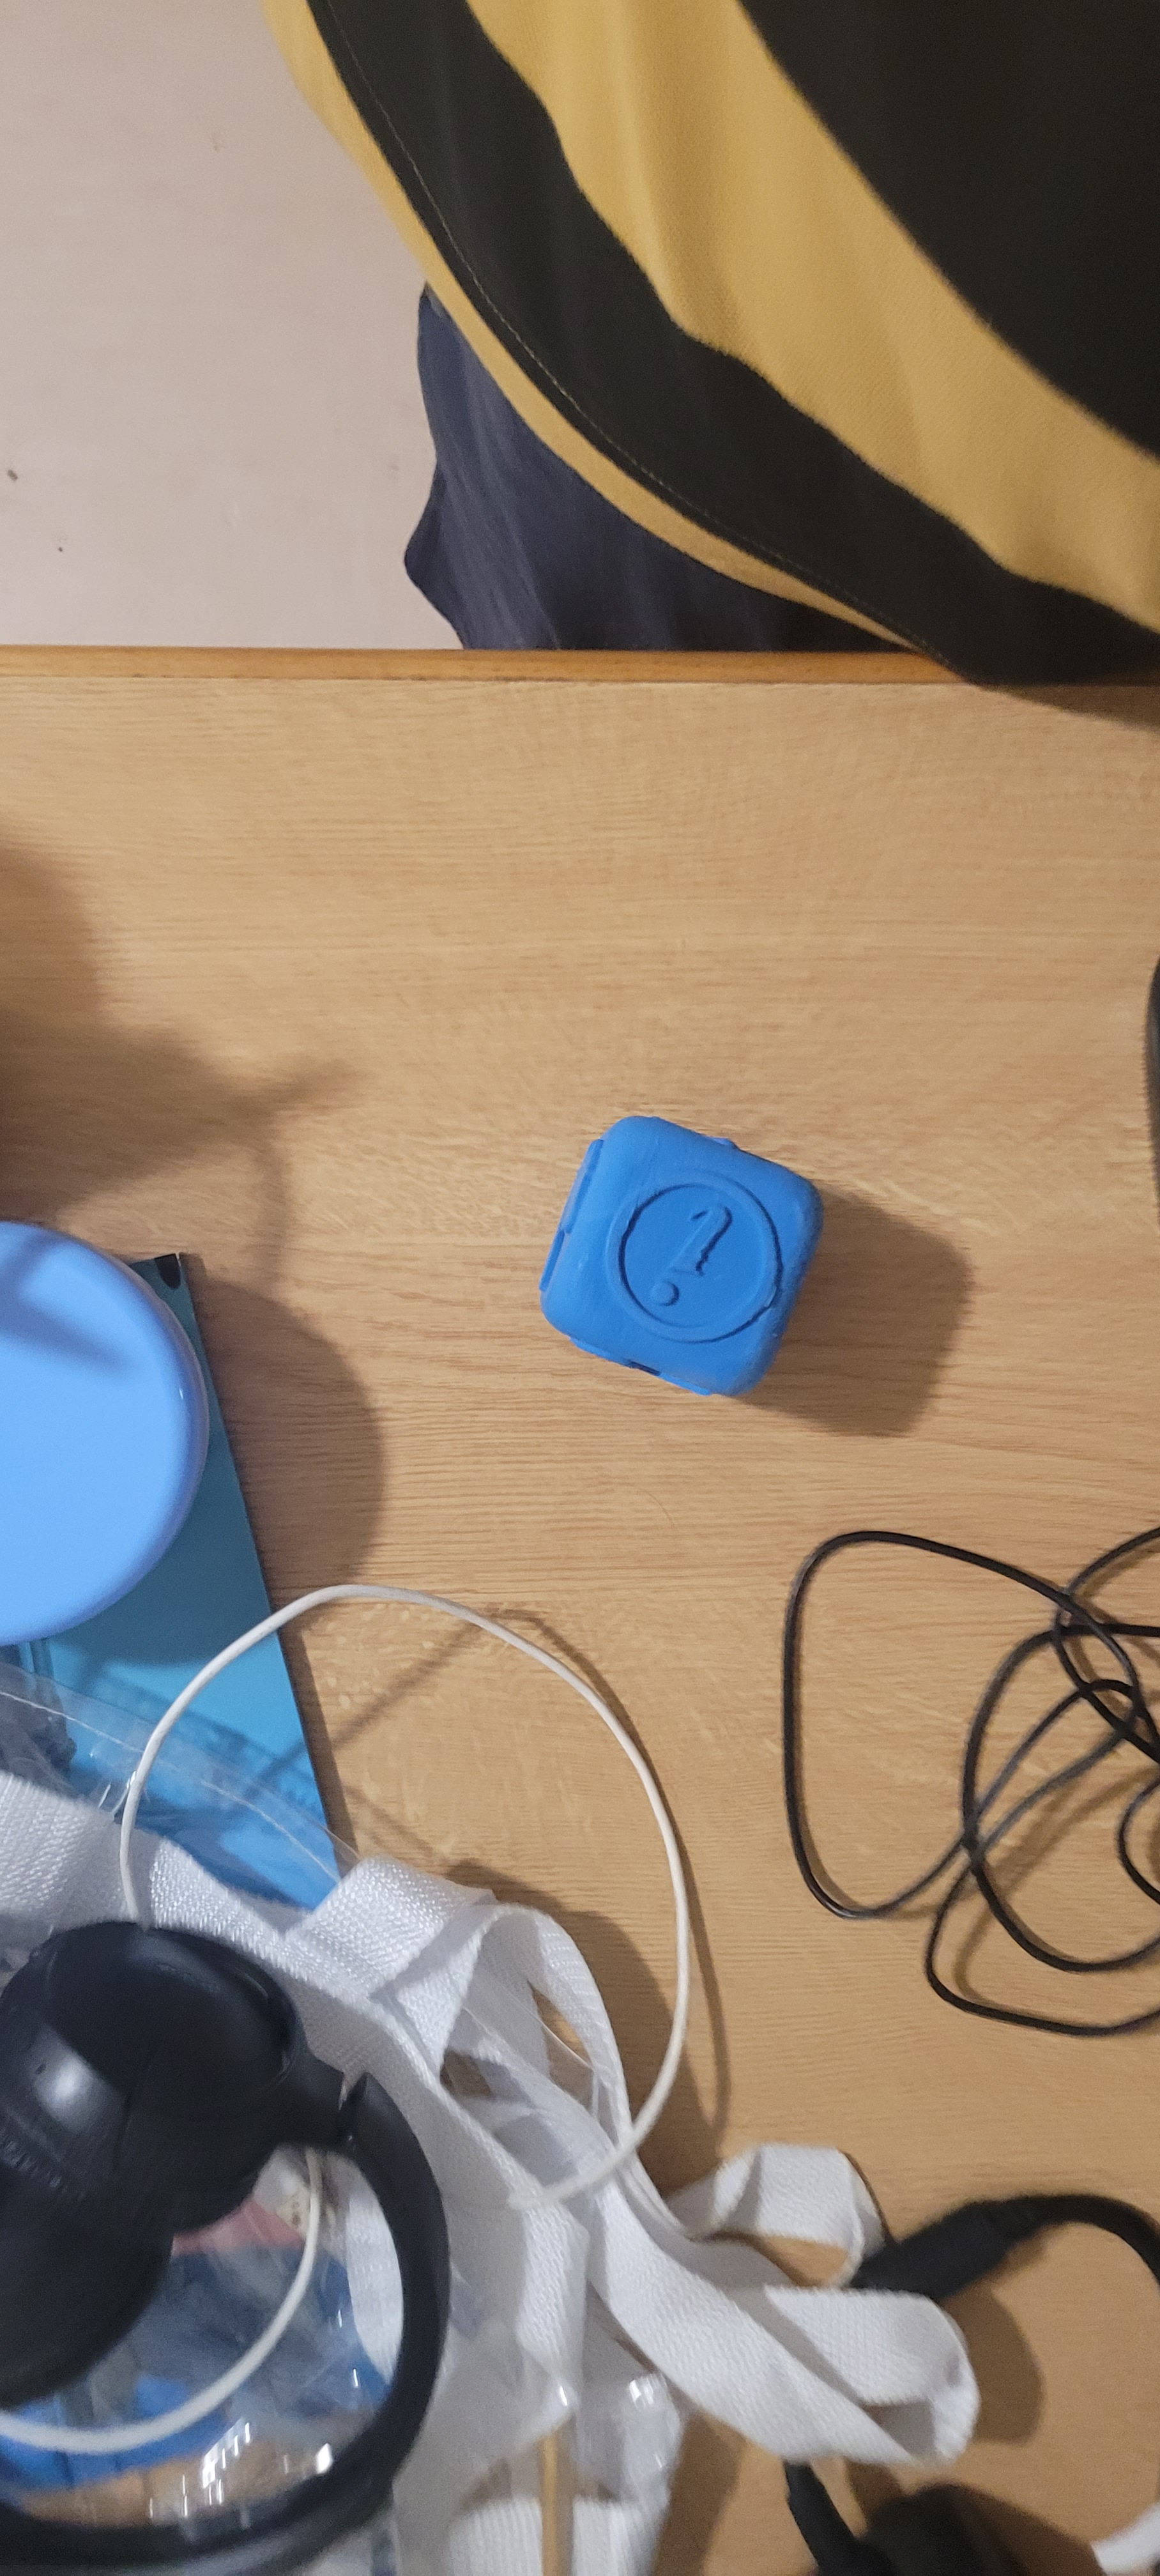Info: (562, 1196, 822, 1337)
